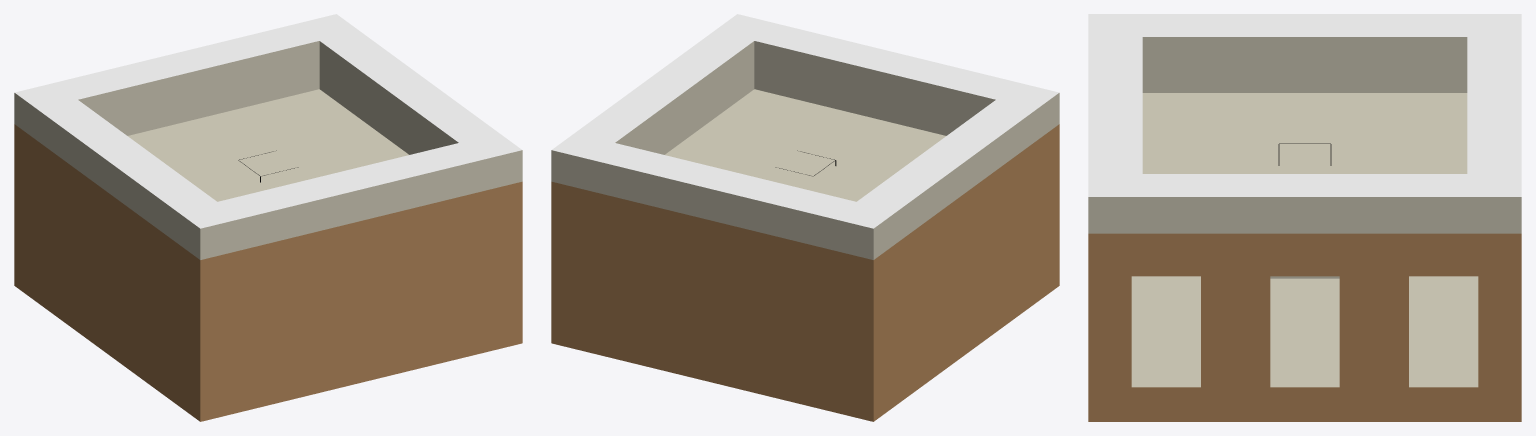
Rendered from Building 49.FBX.
3 views of the same model, side by side, from view 1: azimuth 30°, elevation 25°; view 2: azimuth 150°, elevation 25°; view 3: azimuth 270°, elevation 25° (orthographic). The views are drawn at different scales.
Parts seen in each view (by area): view 1: Group32; view 2: Group32; view 3: Group32.
Boxes of the visible parts, bbox=[...] form: Group32: bbox=[14, 14, 522, 421]; Group32: bbox=[551, 14, 1059, 421]; Group32: bbox=[1088, 14, 1521, 421].
Size of the model in its own units: 29.53 by 16.93 by 29.53.
